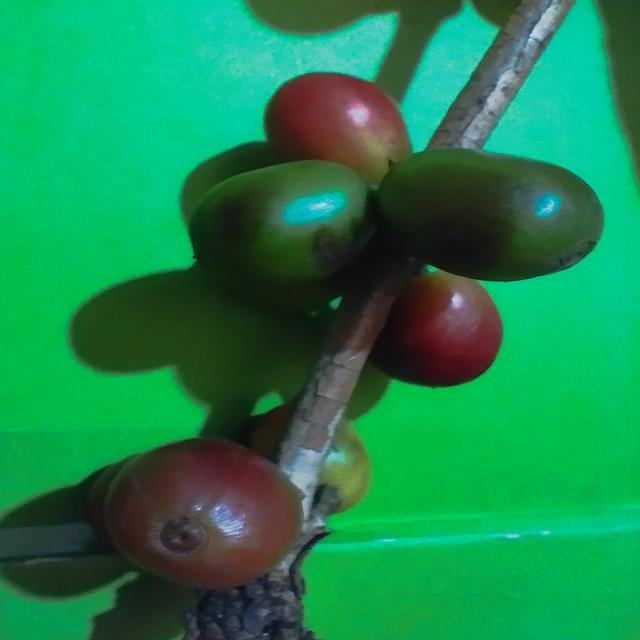Danado: (188, 160, 378, 286)
Sano: (380, 150, 606, 283), (110, 443, 300, 591), (263, 73, 414, 189), (371, 270, 503, 389)
